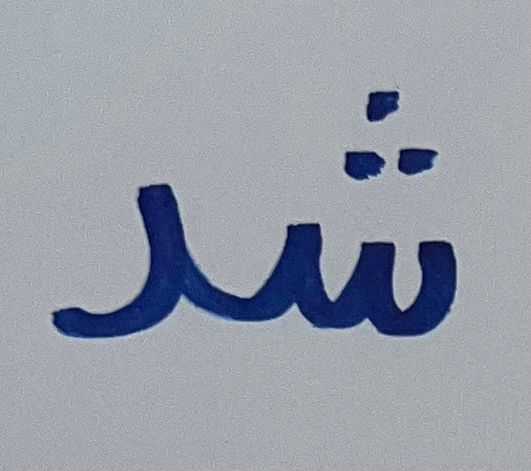dal: (26, 142, 220, 358)
sheen: (228, 48, 481, 368)
